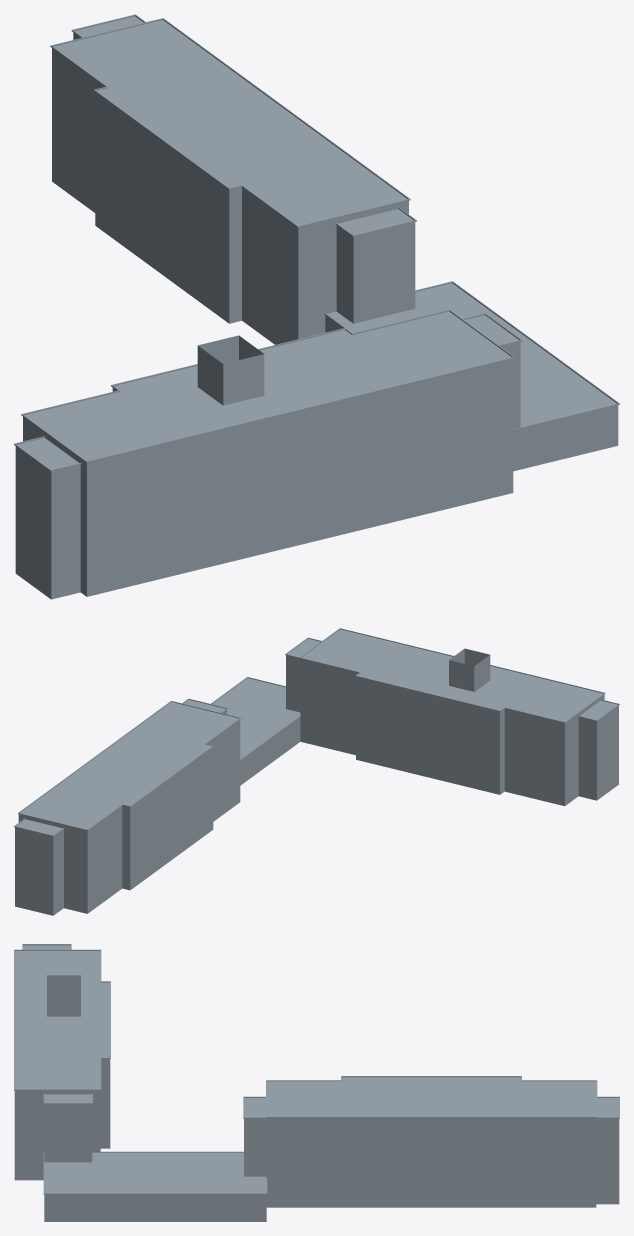
File: taft.glb
3 renders of one model, top to bottom at view 1: azimuth 30°, elevation 25°; view 2: azimuth 150°, elevation 25°; view 3: azimuth 270°, elevation 25°, orthographic. The views are drawn at different scales.
Visible parts, largest first — view 1: taft.003; view 2: taft.003; view 3: taft.003.
Boxes of the visible parts, bbox=[...] form: taft.003: bbox=[14, 14, 619, 599]; taft.003: bbox=[14, 628, 619, 915]; taft.003: bbox=[14, 944, 619, 1221].
Bounding box in the file's own units: 2384 × 686 × 3194.
